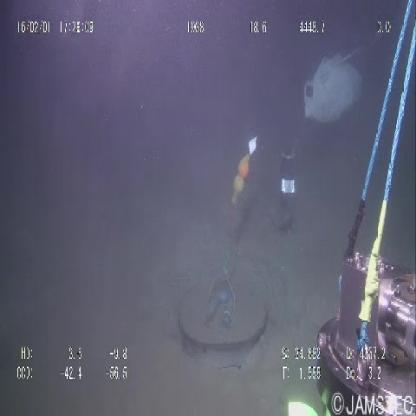Rov: (171, 123, 416, 414)
Rác: (301, 42, 369, 137)
